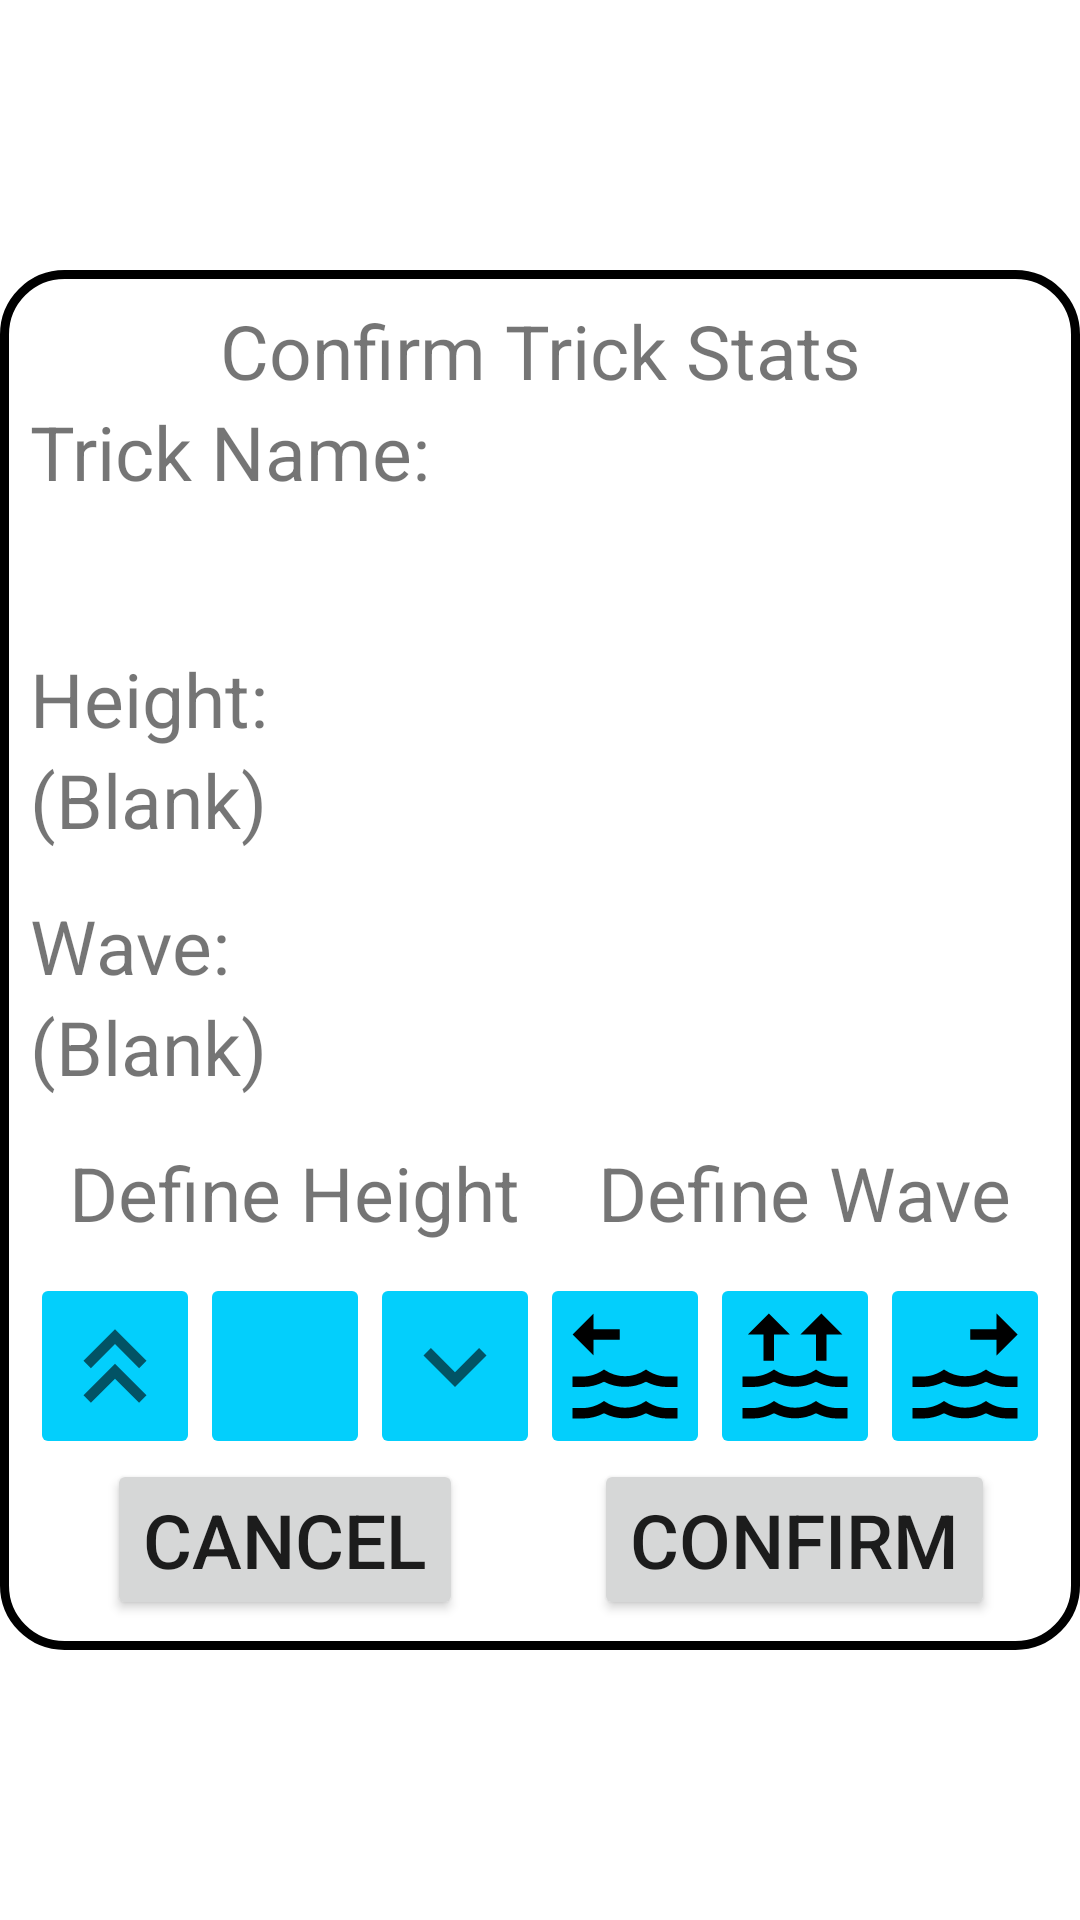

Icon click points for this 1080 x 1920 phone screenshot, format (x,y):
keyboard arrow down: (455,1366)
keyboard double arrow up: (115,1366)
waves arrow left: (625,1366)
waves arrow right: (965,1366)
waves arrow up: (795,1366)
